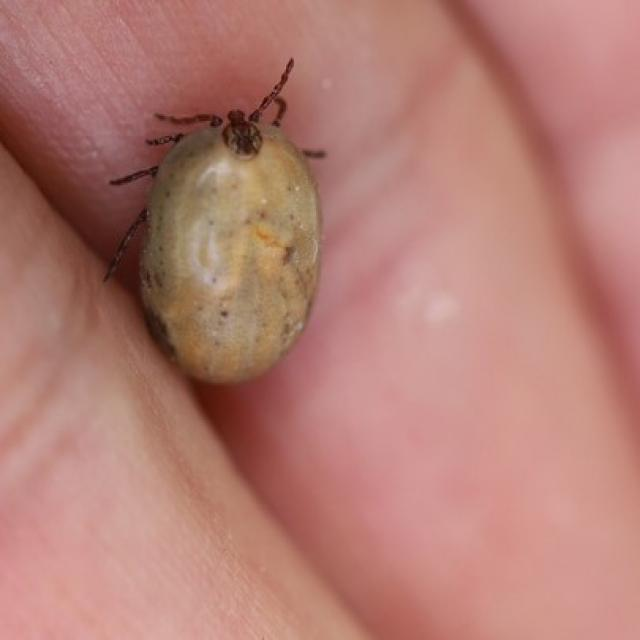Dermacentor Reticulatus-F-Fed: (103, 60, 330, 386)
